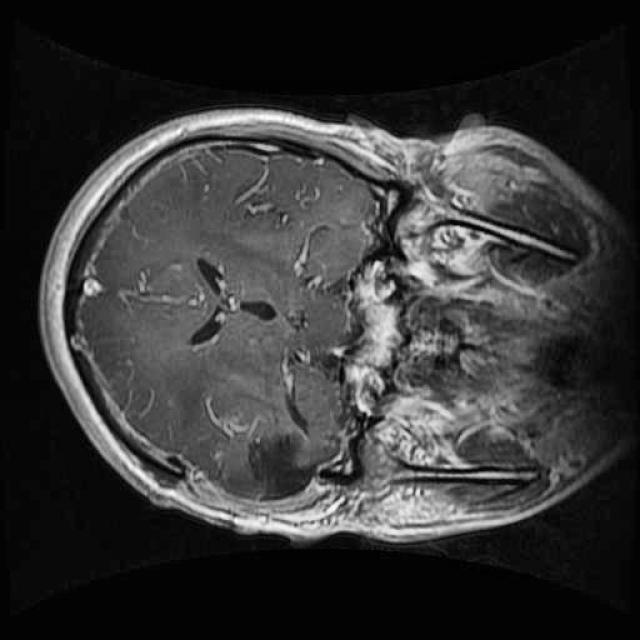Tumor: (226, 412, 326, 517)
